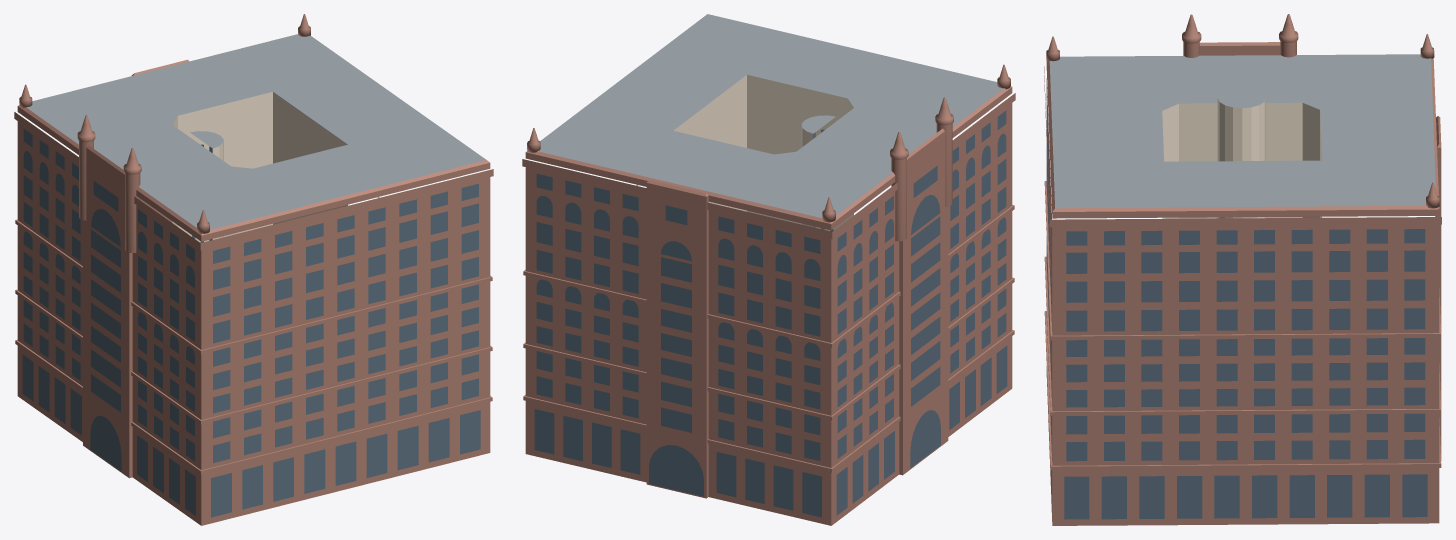
3 renders of one model, left to right at view 1: azimuth 30°, elevation 25°; view 2: azimuth 150°, elevation 25°; view 3: azimuth 270°, elevation 25°, orthographic. The views are drawn at different scales.
Parts seen in each view (by area): view 1: the-rookery; view 2: the-rookery; view 3: the-rookery.
Boxes of the visible parts, x1,y1,x2,y2 form: the-rookery: (14,14,493,525); the-rookery: (522,14,1015,525); the-rookery: (1044,14,1441,525).
Bounding box in the file's own units: 53.23 × 55 × 55.71.
